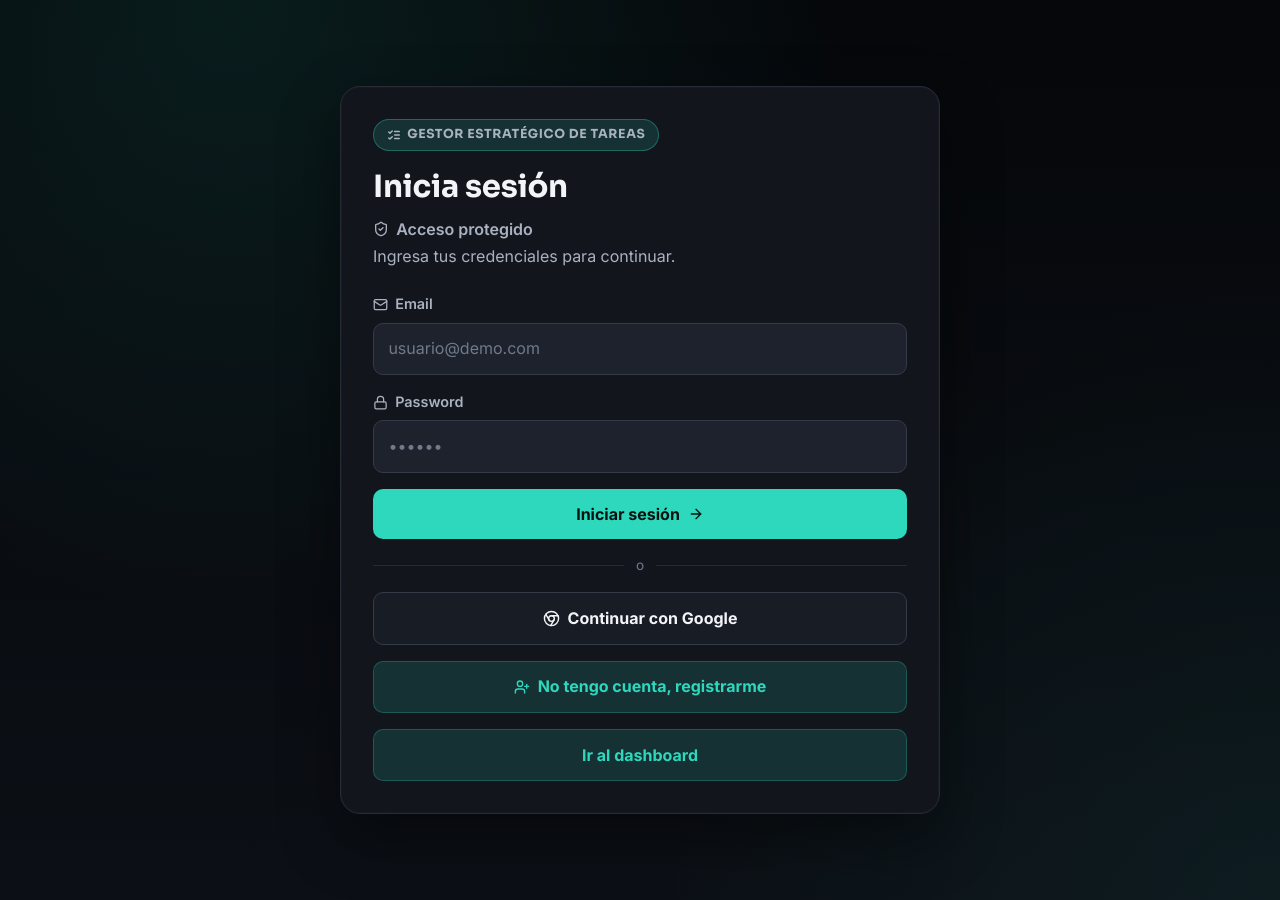
Test: Etapa B1 - autenticacion › permite registrar un usuario nuevo con email y password y entra al dashboard
Click the button "No tengo cuenta, registrarme": (640, 687) [373,661,907,713]
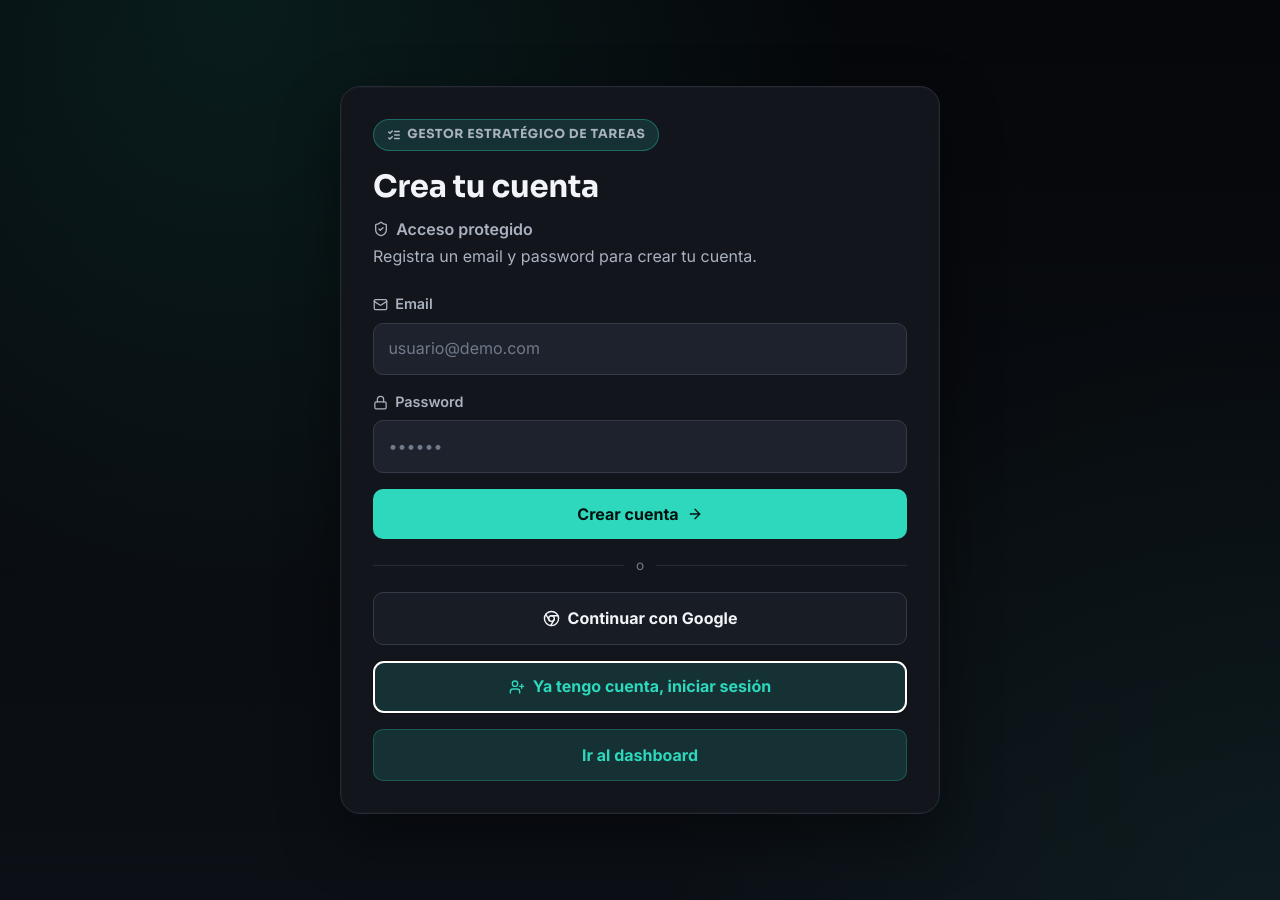
Now the heading "Crea tu cuenta" is shown, box [373,167,599,206]
In the field labelled "Email": (640, 349) [373,322,907,375], type "nuevo.usuario@demo.com"
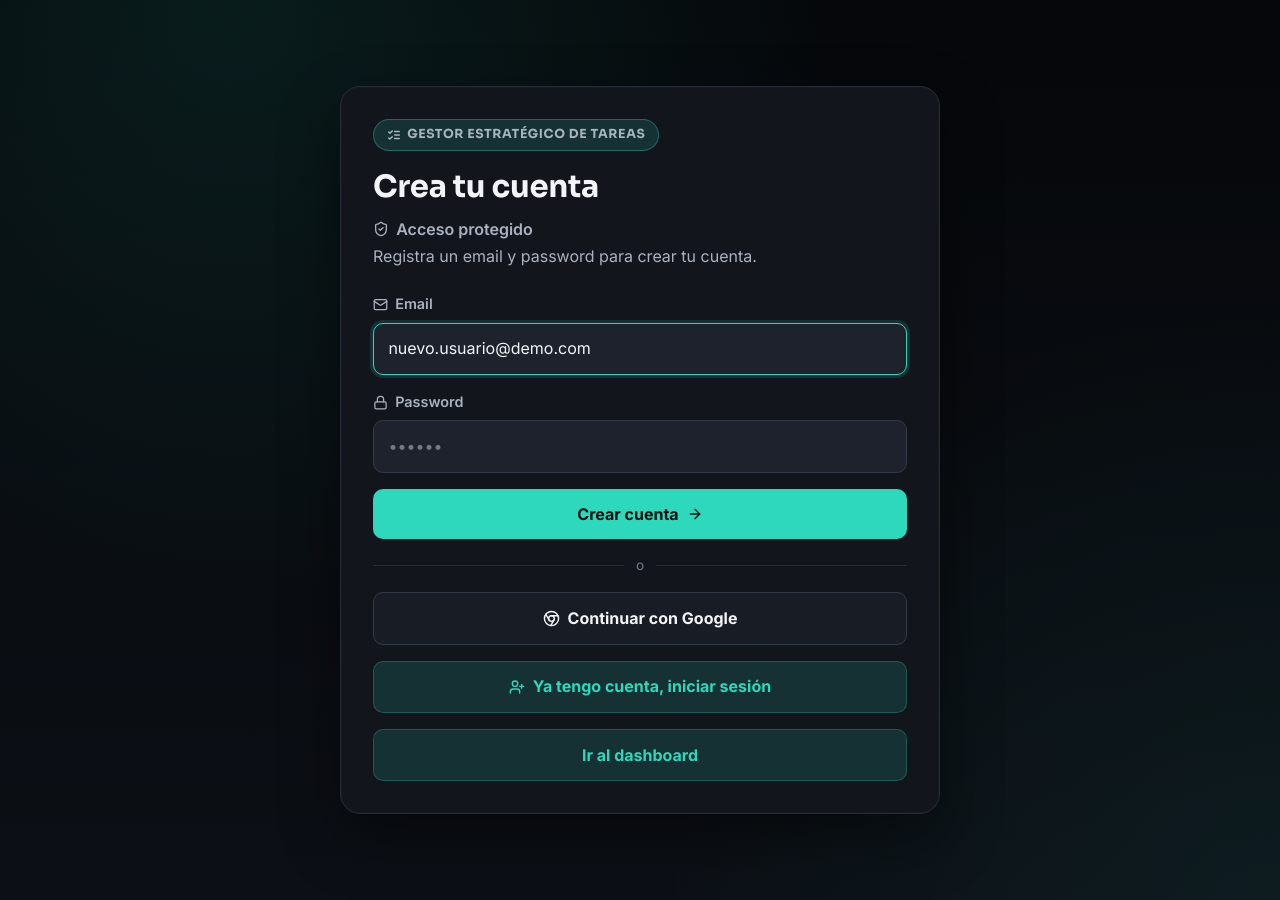
In the password field labelled "Password": (640, 447) [373,420,907,473], type "clave-segura"
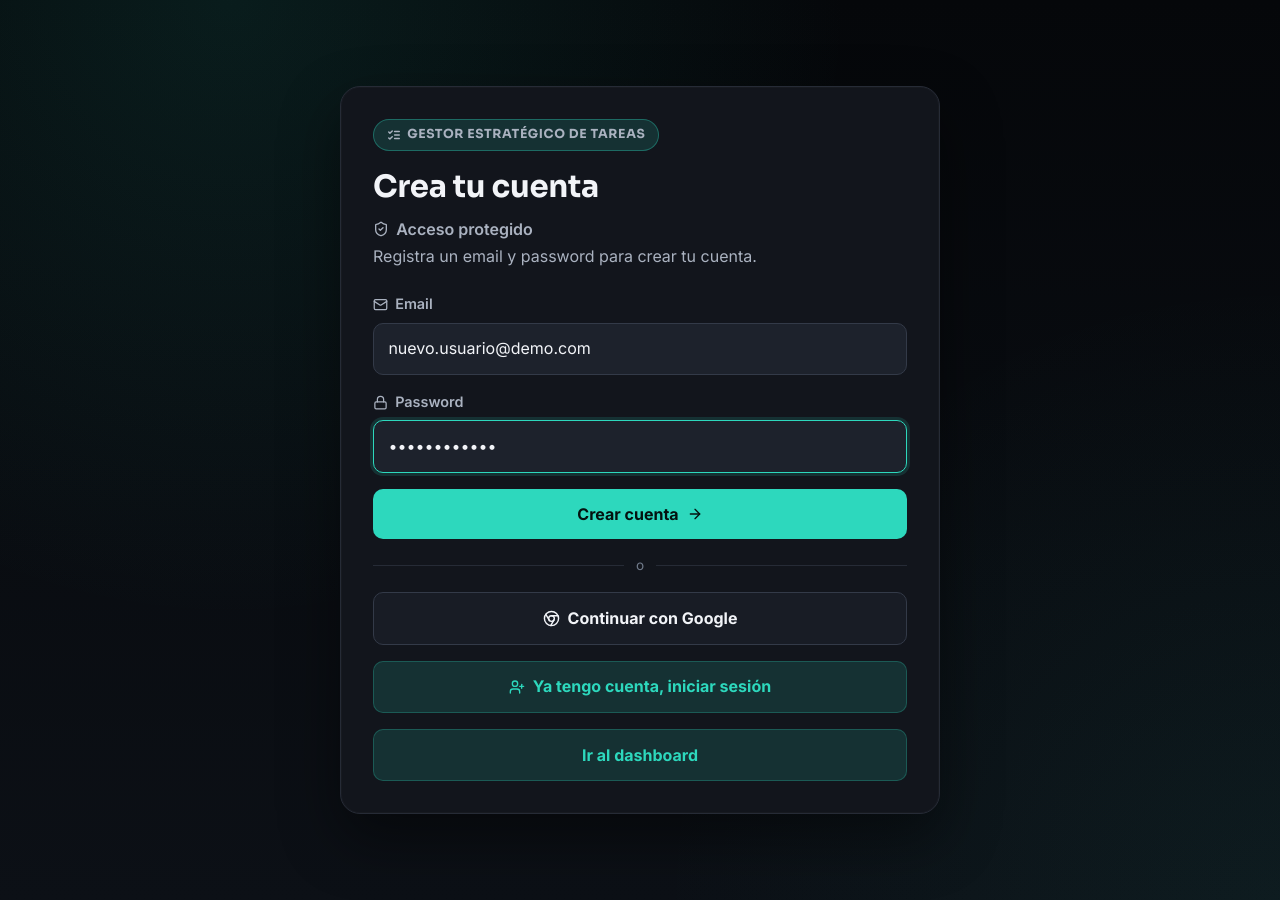
Click the button "Crear cuenta": (640, 514) [373,489,907,539]
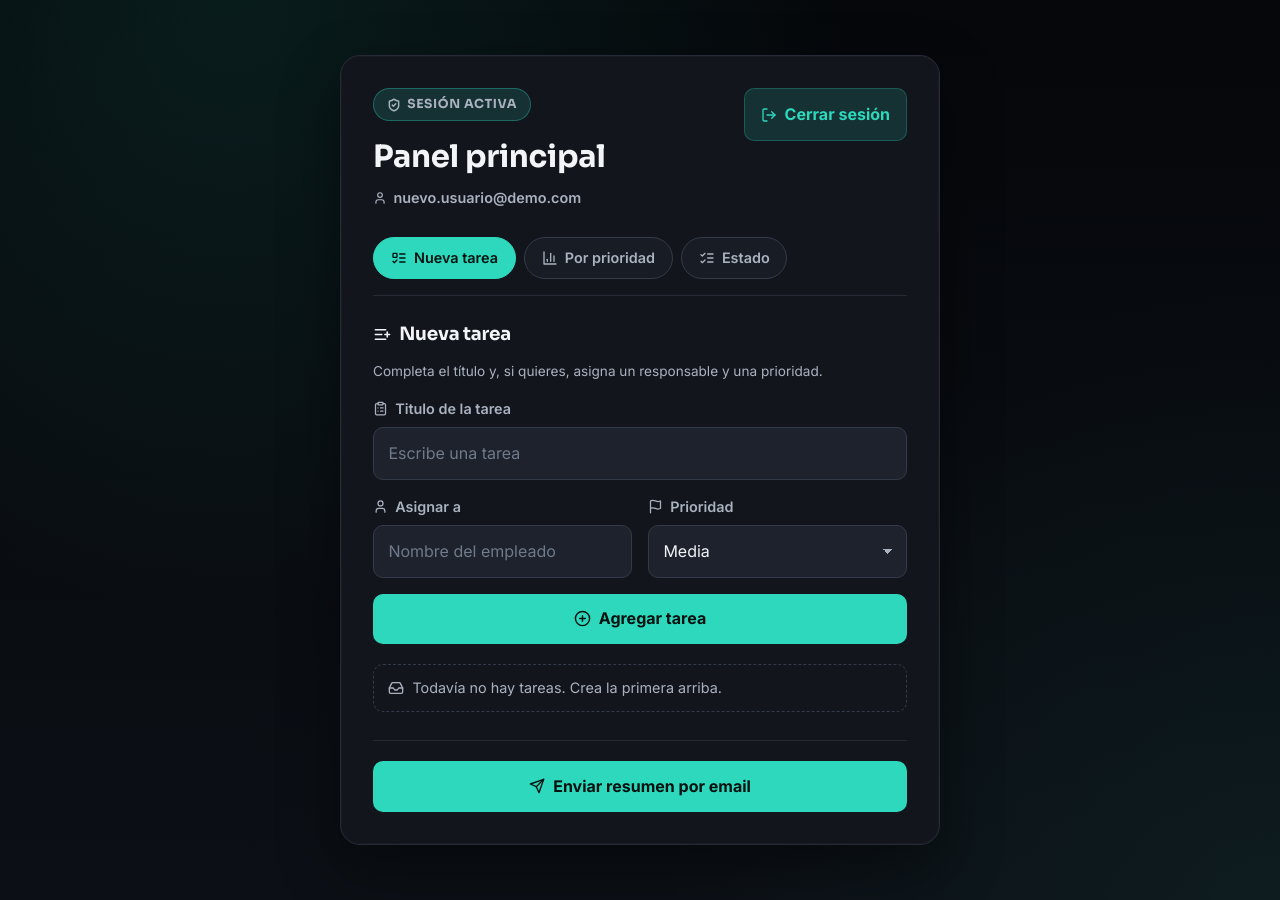
Now the heading "Panel principal" is shown, box [373,133,606,180]
Now the text "nuevo.usuario@demo.com" is shown, box [373,187,606,209]
